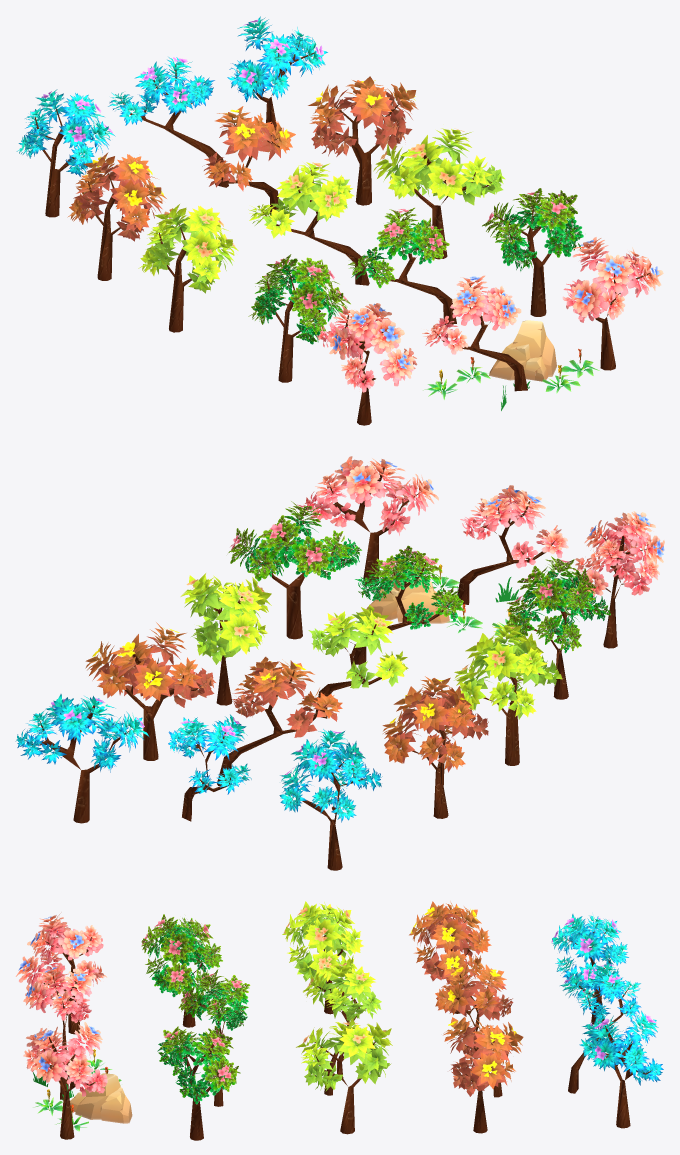
The model's file is NAT_TreesPainted_lod.glb.
3 views of the same model, one above another, from view 1: azimuth 30°, elevation 25°; view 2: azimuth 150°, elevation 25°; view 3: azimuth 270°, elevation 25° (orthographic). The views are drawn at different scales.
Visible parts, largest first — view 1: TRS4_4, TRS3_1, TRW3_2, TRW4_3, TRS2_7, TRW2_8, TRW1_10, TRS1_9, TRW5_6, TRT4_19, TRS5_5, TRT2_17 (+4 smaller); view 2: TRS2_7, TRS4_4, TRW3_2, TRW4_3, TRS1_9, TRW2_8, TRS5_5, TRS3_1, TRW5_6, TRW1_10, TRT3_18, TRT1_16 (+4 smaller); view 3: TRS3_1, TRW2_8, TRS2_7, TRS4_4, TRW4_3, TRW3_2, TRS1_9, TRS5_5, TRW1_10, TRW5_6, TRT3_18, TRT4_19 (+4 smaller).
Boxes of the visible parts, x1,y1,x2,y2 form: TRS4_4: [308, 76, 418, 205]; TRS3_1: [373, 128, 505, 259]; TRW3_2: [138, 204, 238, 332]; TRW4_3: [67, 152, 166, 280]; TRS2_7: [482, 188, 583, 316]; TRW2_8: [248, 254, 350, 382]; TRW1_10: [316, 303, 417, 425]; TRS1_9: [562, 237, 663, 370]; TRW5_6: [16, 89, 115, 217]; TRT4_19: [248, 162, 369, 285]; TRS5_5: [227, 16, 327, 147]; TRT2_17: [348, 207, 456, 324]; TRS2_7: [228, 501, 361, 639]; TRS4_4: [85, 622, 215, 760]; TRW3_2: [454, 623, 562, 765]; TRW4_3: [382, 676, 488, 818]; TRS1_9: [305, 456, 438, 585]; TRW2_8: [506, 556, 610, 699]; TRS5_5: [15, 694, 149, 823]; TRS3_1: [180, 573, 271, 705]; TRW5_6: [279, 729, 382, 870]; TRW1_10: [574, 511, 664, 648]; TRT3_18: [217, 656, 342, 785]; TRT1_16: [457, 485, 568, 604]; TRS3_1: [296, 1018, 392, 1134]; TRW2_8: [141, 914, 222, 1027]; TRS2_7: [157, 1026, 240, 1140]; TRS4_4: [443, 1016, 523, 1133]; TRW4_3: [409, 901, 491, 1013]; TRW3_2: [282, 901, 363, 1014]; TRS1_9: [23, 1022, 107, 1139]; TRS5_5: [579, 1010, 663, 1128]; TRW1_10: [15, 912, 107, 1034]; TRW5_6: [551, 914, 628, 1024]; TRT3_18: [435, 963, 513, 1097]; TRT4_19: [303, 959, 381, 1095].
Size of the model in its own units: 23.78 by 7.78 by 39.73.
Materials: 2 (2 with a texture image).
